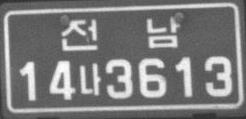1: (172, 56, 197, 98), (17, 60, 39, 102)
3: (203, 54, 233, 98), (104, 58, 133, 100)
4: (47, 59, 76, 101)
6: (137, 56, 167, 99)
나: (78, 62, 101, 97)
전남_D: (60, 14, 180, 52)
